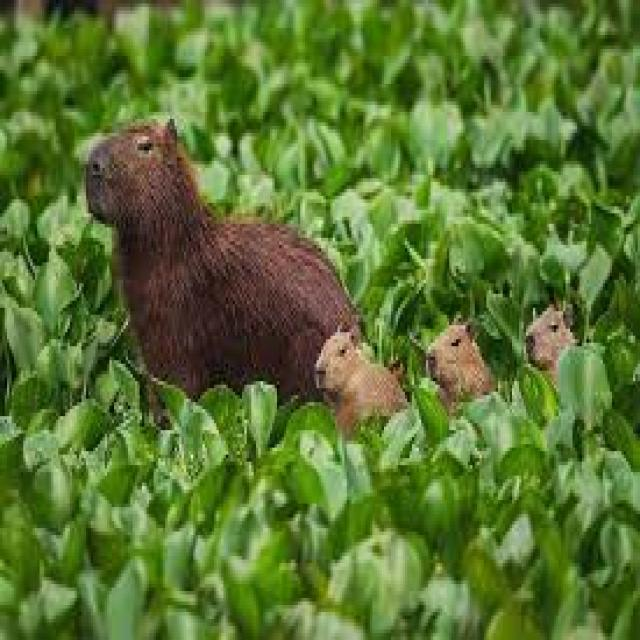capy: (79, 110, 362, 390), (314, 326, 406, 411), (426, 316, 494, 392), (525, 303, 577, 355)
